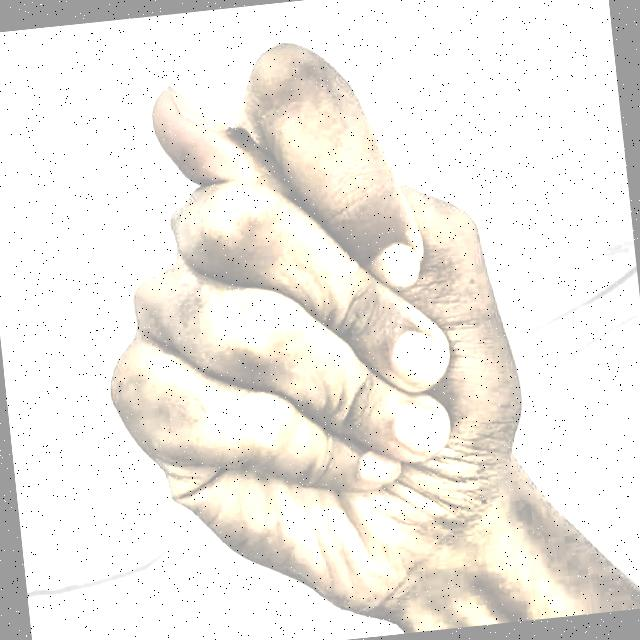Ta: (45, 0, 616, 640)
